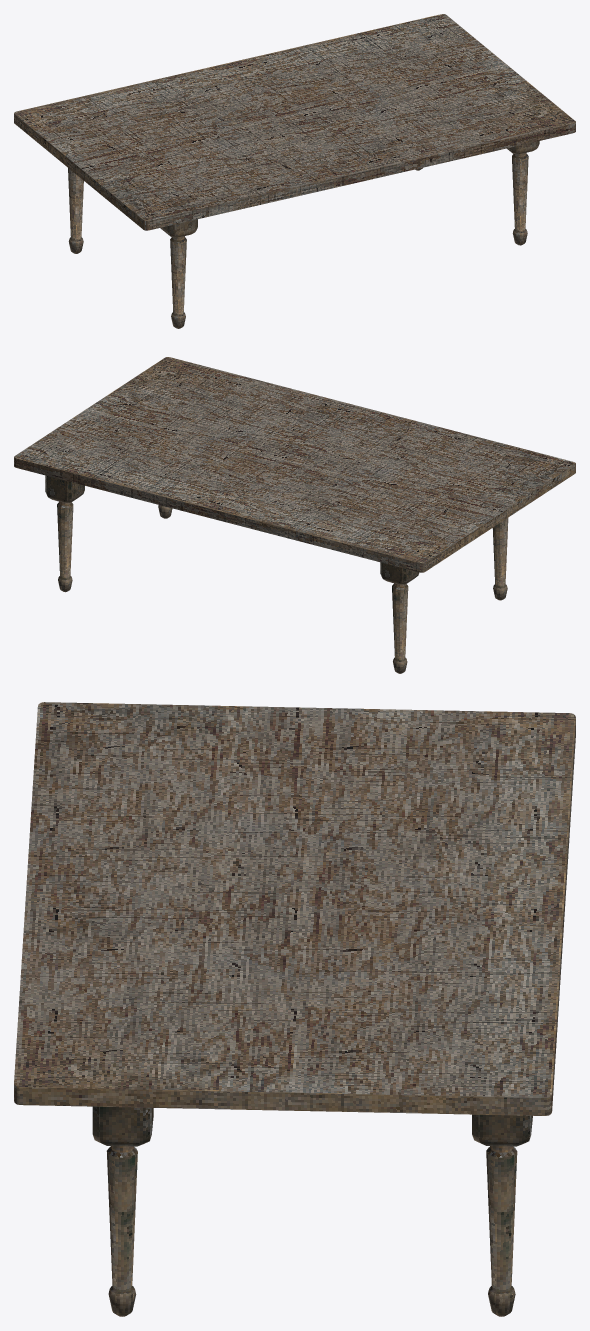
The model's file is oldtable.glb.
3 renders of one model, top to bottom at view 1: azimuth 30°, elevation 25°; view 2: azimuth 150°, elevation 25°; view 3: azimuth 270°, elevation 25°, orthographic. The views are drawn at different scales.
Visible parts, largest first — view 1: oldtable; view 2: oldtable; view 3: oldtable.
Part boxes in pixels (x1,y1,x2,y2): oldtable: (14,14,575,328); oldtable: (14,357,575,673); oldtable: (14,702,575,1316).
Size of what is drawn, in the model's own units: 4.48 by 1.34 by 2.69.
1 material, 1 textured.
